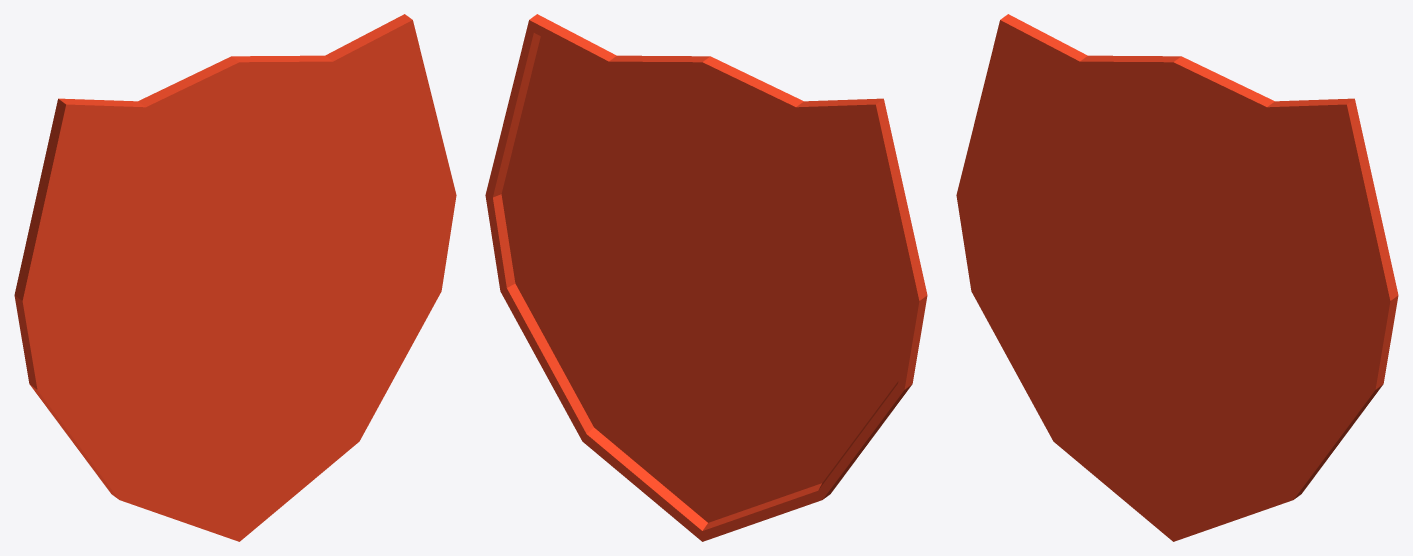
Rendered from SM_Sign_Route_Tall_A_City.fbx.
The picture shows the model from 3 angles, left to right: view 1: azimuth 30°, elevation 25°; view 2: azimuth 150°, elevation 25°; view 3: azimuth 330°, elevation 25°; orthographic projection.
Visible parts, largest first — view 1: SM_Sign_Route_Tall_A_City; view 2: SM_Sign_Route_Tall_A_City; view 3: SM_Sign_Route_Tall_A_City.
Boxes of the visible parts, x1,y1,x2,y2 form: SM_Sign_Route_Tall_A_City: [14, 14, 456, 541]; SM_Sign_Route_Tall_A_City: [485, 14, 927, 541]; SM_Sign_Route_Tall_A_City: [956, 14, 1398, 541].
Size of the model in its own units: 0.7676 by 0.8109 by 0.0249.
